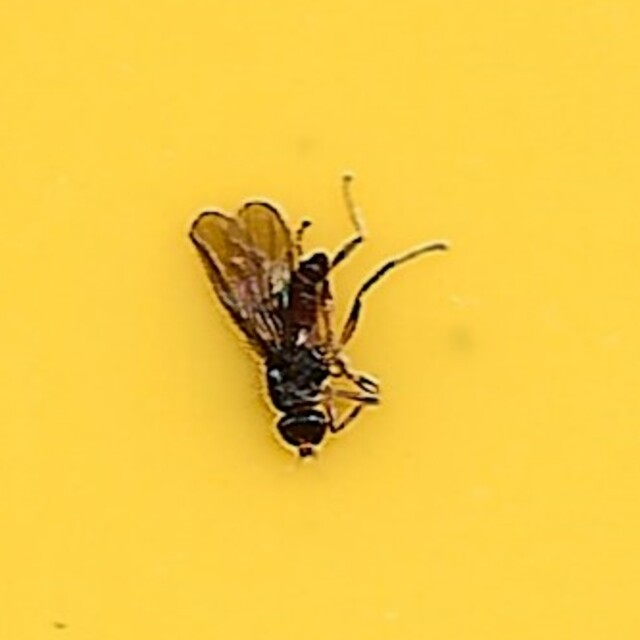Brachycera: (192, 180, 448, 460)
